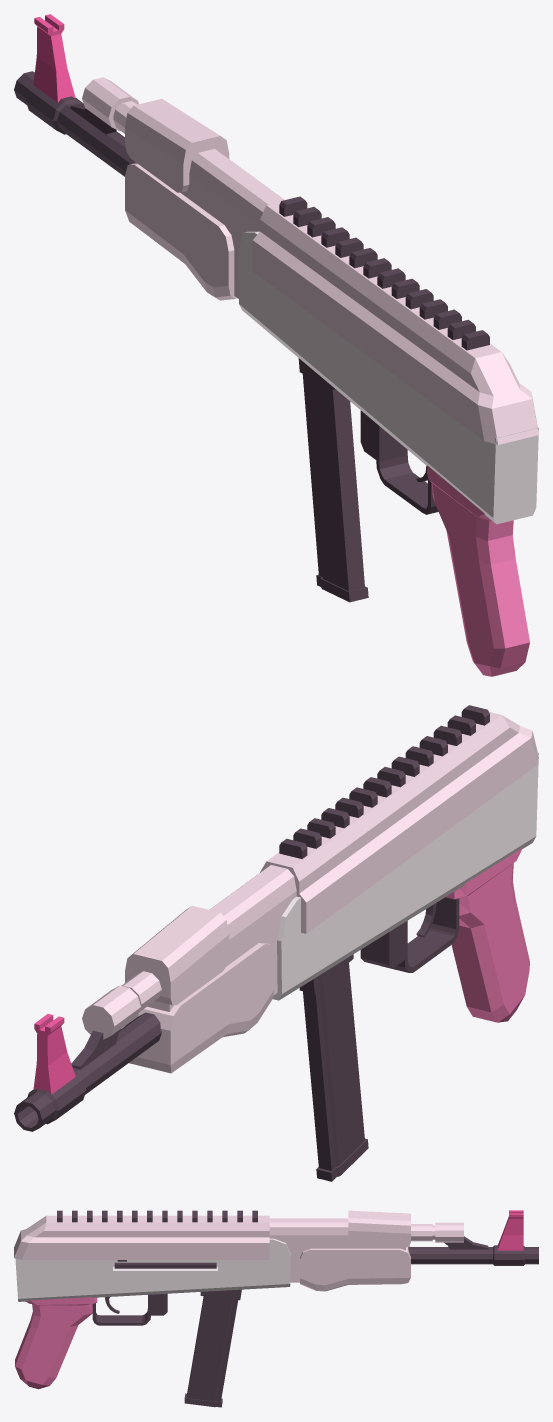
File: AssaultRifle_1.obj
3 views of the same model, one above another, from view 1: azimuth 30°, elevation 25°; view 2: azimuth 150°, elevation 25°; view 3: azimuth 270°, elevation 25° (orthographic). The views are drawn at different scales.
Parts seen in each view (by area): view 1: Panel, Body, Hardware, Grip, Mag, Accent; view 2: Panel, Body, Hardware, Mag, Grip, Accent; view 3: Panel, Body, Hardware, Grip, Mag, Accent.
Boxes of the visible parts, box(x1,y1,x2,y2) form: Panel: box(82, 77, 538, 444); Body: box(238, 231, 538, 524); Hardware: box(14, 71, 489, 514); Grip: box(427, 465, 529, 676); Mag: box(298, 358, 368, 602); Accent: box(33, 14, 75, 102); Panel: box(82, 712, 538, 1073); Body: box(272, 752, 538, 1000); Hardware: box(14, 705, 489, 1131); Mag: box(299, 954, 368, 1181); Grip: box(445, 848, 529, 1022); Accent: box(33, 1014, 75, 1094); Panel: box(14, 1210, 463, 1291); Body: box(15, 1238, 290, 1301); Hardware: box(57, 1210, 538, 1325); Grip: box(15, 1297, 97, 1389); Mag: box(184, 1289, 241, 1407); Accent: box(497, 1210, 523, 1250).
Bounding box in the file's own units: 0.2147 × 1.38 × 3.4.
